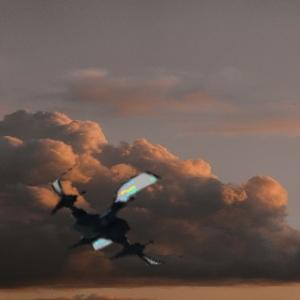drone: (49, 144, 193, 288)
